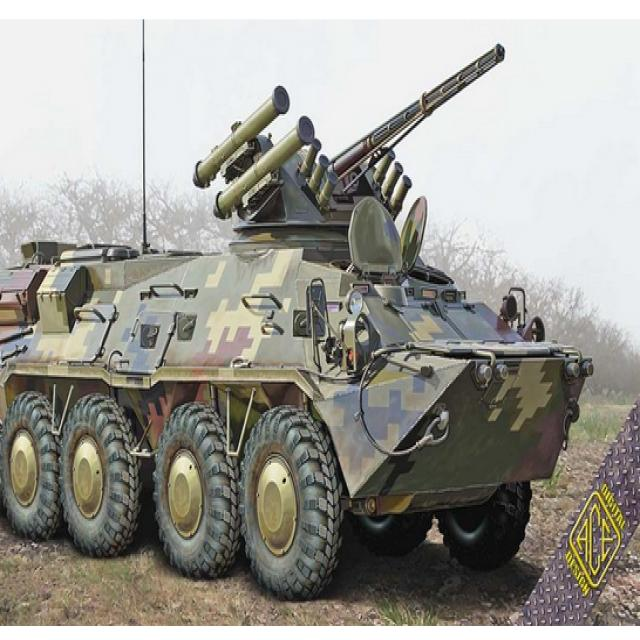MIL_APC: (2, 152, 589, 586)
